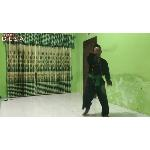Celurit: (96, 40, 122, 54)
